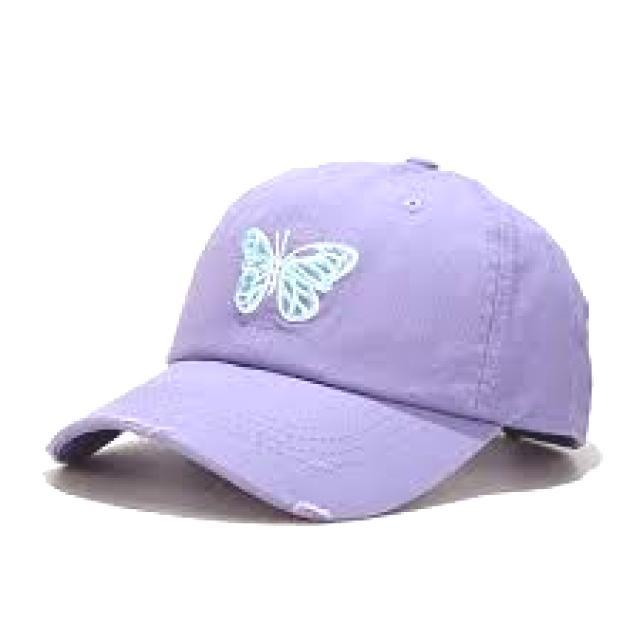cap: (43, 126, 632, 558)
